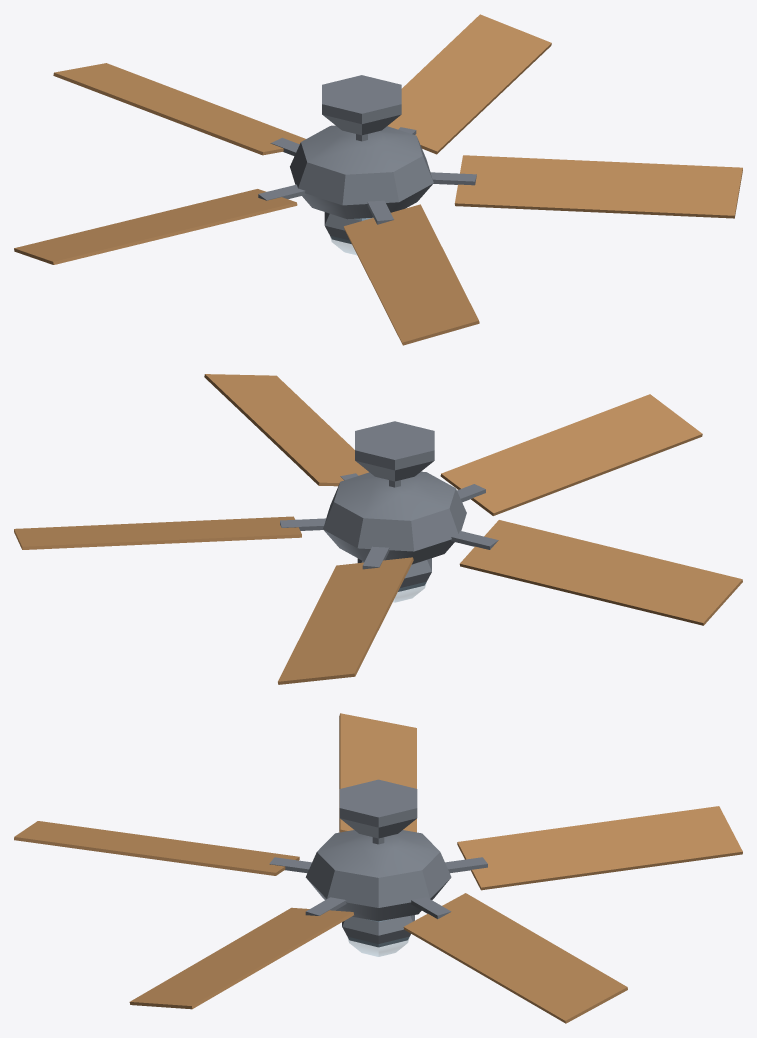
The model's file is ceiling_fan_52in.far.glb.
3 views of the same model, one above another, from view 1: azimuth 30°, elevation 25°; view 2: azimuth 150°, elevation 25°; view 3: azimuth 270°, elevation 25° (orthographic). The views are drawn at different scales.
Parts seen in each view (by area): view 1: rotor, ceiling_fan_52in; view 2: rotor, ceiling_fan_52in; view 3: rotor, ceiling_fan_52in.
Boxes of the visible parts, x1=… form: rotor: x1=14, y1=14, x2=742, y2=345; ceiling_fan_52in: x1=322, y1=75, x2=401, y2=254; rotor: x1=14, y1=374, x2=742, y2=684; ceiling_fan_52in: x1=355, y1=421, x2=434, y2=602; rotor: x1=14, y1=713, x2=742, y2=1023; ceiling_fan_52in: x1=339, y1=779, x2=417, y2=956.
Bounding box in the file's own units: 1.24 × 0.3048 × 1.3.
